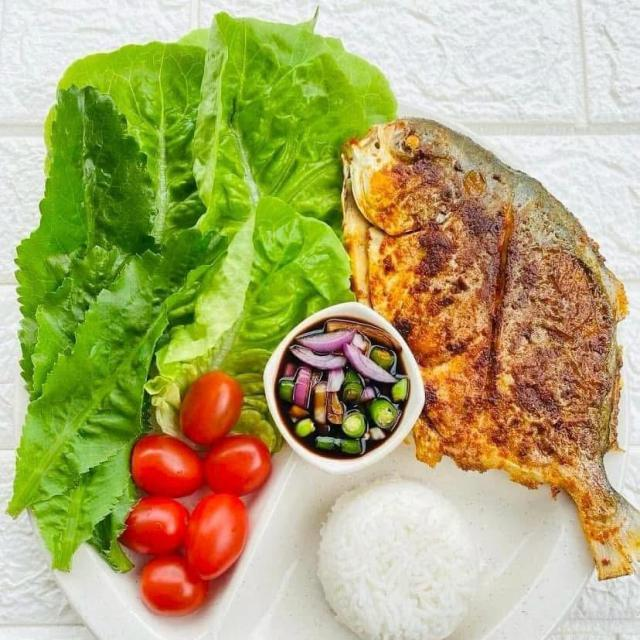Fish: (344, 114, 639, 582)
Plate: (8, 13, 639, 576)
Rice: (316, 479, 478, 639)
